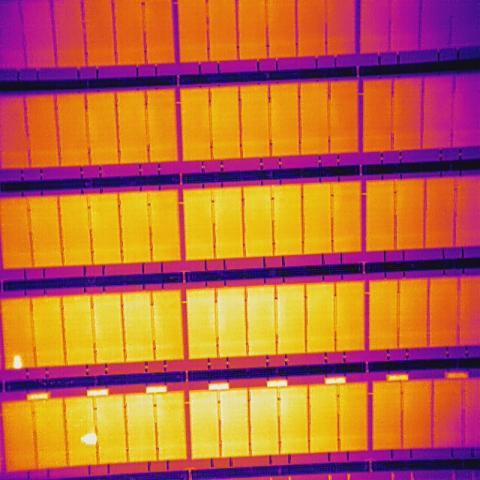fault: (79, 432, 98, 446), (12, 353, 22, 370)
